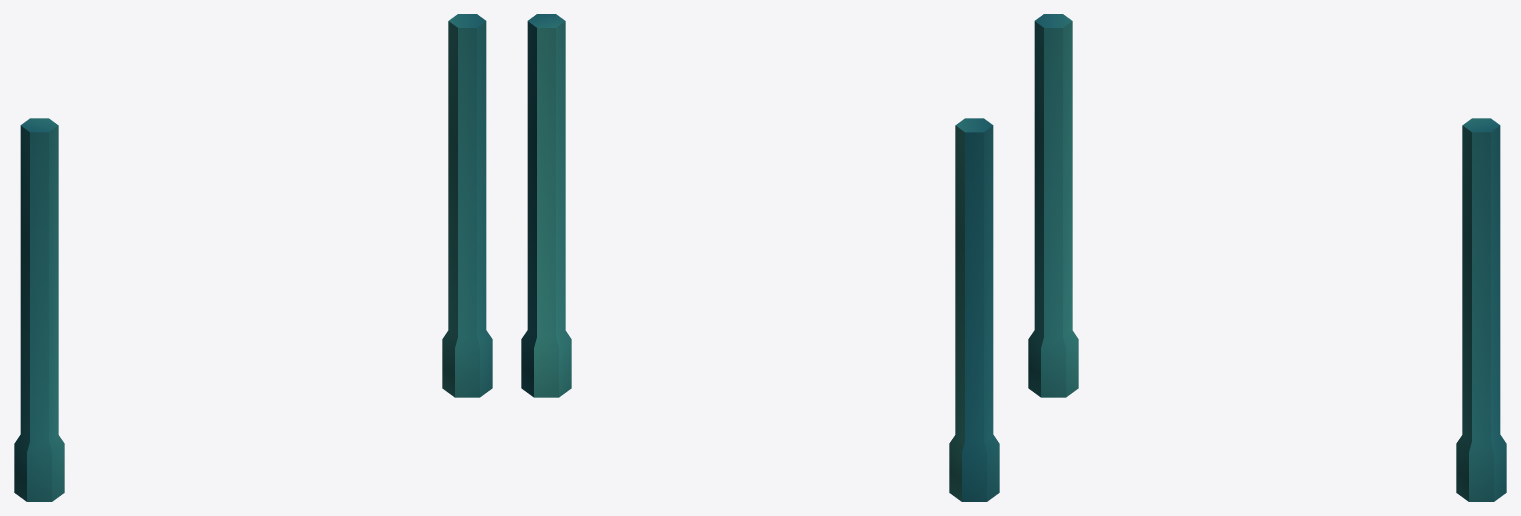
File: INT_Gate_Frame.fbx
3 renders of one model, left to right at view 1: azimuth 30°, elevation 25°; view 2: azimuth 150°, elevation 25°; view 3: azimuth 330°, elevation 25°, orthographic.
Visible parts, largest first — view 1: INT_Gate_Frame; view 2: INT_Gate_Frame; view 3: INT_Gate_Frame.
Part boxes in pixels (<box>): INT_Gate_Frame: <box>14,14,492,501</box>; INT_Gate_Frame: <box>521,14,999,501</box>; INT_Gate_Frame: <box>1028,14,1506,501</box>.
Bounding box in the file's own units: 4.35 × 3.28 × 0.4071.
